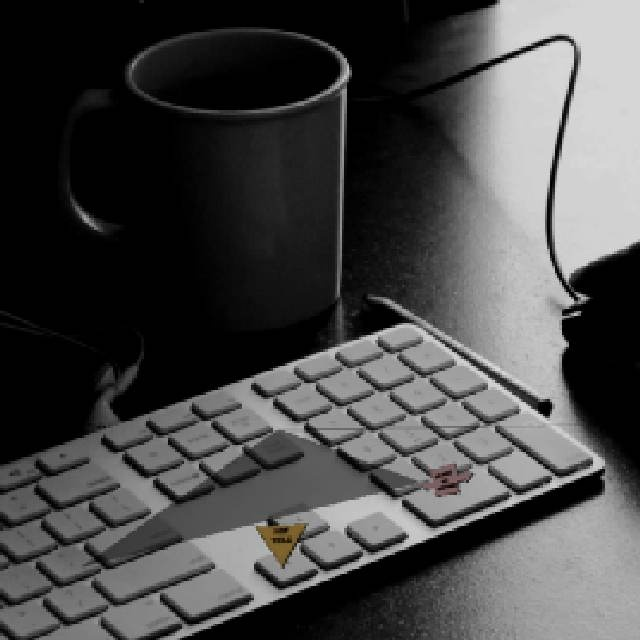DO_NOT_GO_AROUND: (419, 460, 472, 495)
NOT_YIELD: (253, 521, 306, 566)
